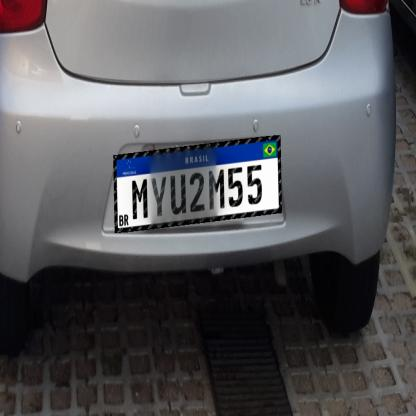PlacaM: (113, 135, 282, 233)
